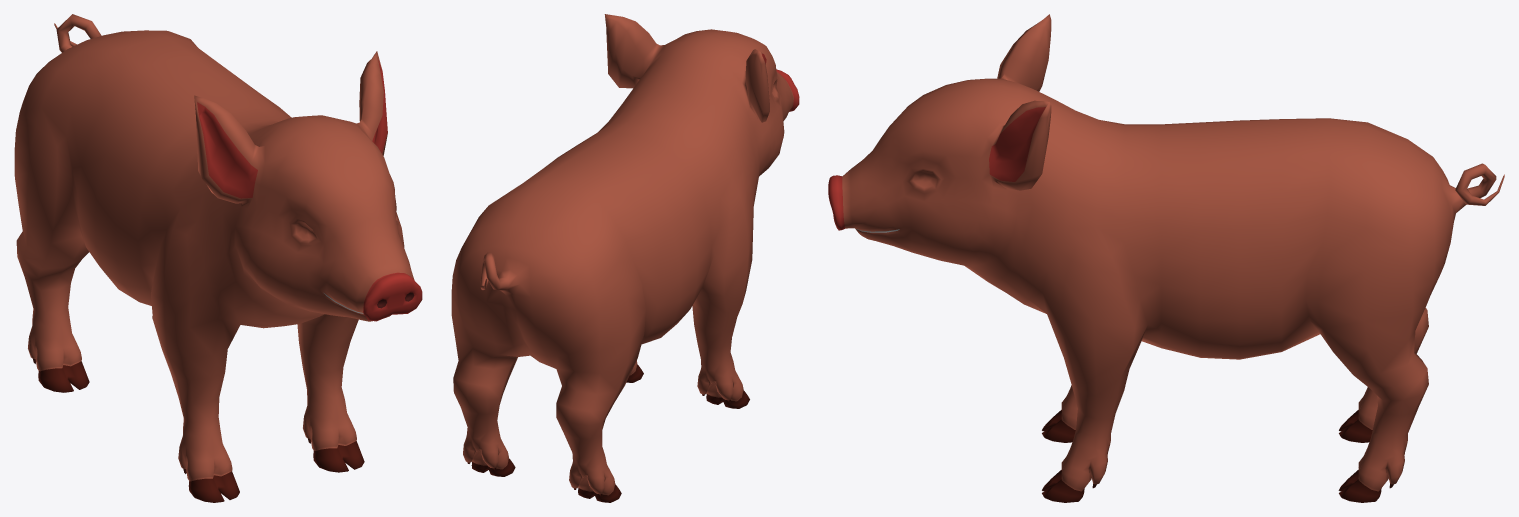
Rendered from minature_pig_miniature_pig.obj.
3 renders of one model, left to right at view 1: azimuth 30°, elevation 25°; view 2: azimuth 150°, elevation 25°; view 3: azimuth 270°, elevation 25°, orthographic. The views are drawn at different scales.
Parts seen in each view (by area): view 1: miniature_pig; view 2: miniature_pig; view 3: miniature_pig.
Part boxes in pixels (<box>): miniature_pig: <box>14,14,422,502</box>; miniature_pig: <box>451,14,799,502</box>; miniature_pig: <box>828,14,1504,502</box>.
Size of the model in its own units: 0.3308 by 0.6535 by 0.9894.
